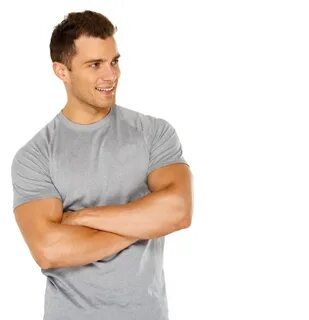awake: (11, 9, 195, 320)
